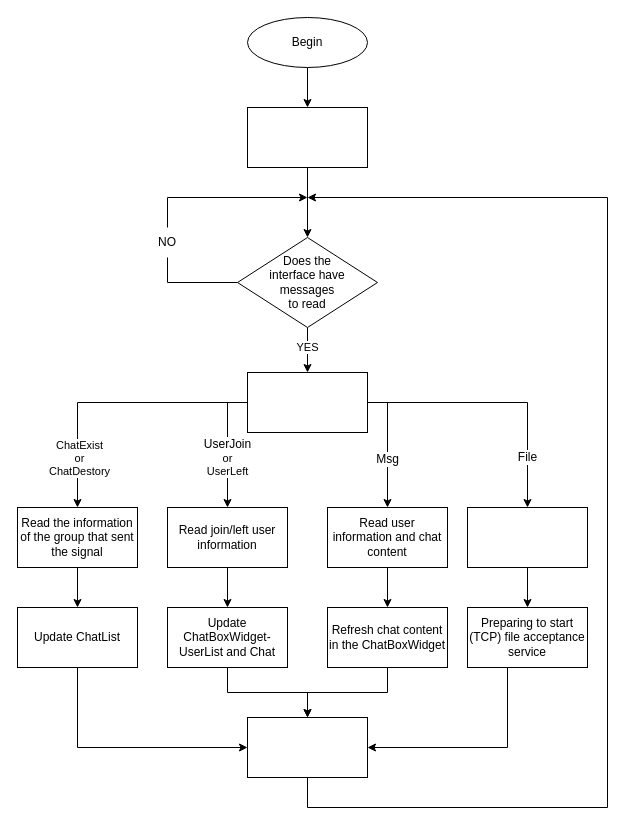
Some shapes in this 633 by 833 pixel diagram are drawn without their labels. Here are the shapes that lost their labels. From the top down, the centre of each, then its label:
At pixel 307 137: "Define the UDP Scoket and bind the IP interface specified by the client".
At pixel 307 402: "Read the data and determine the message type".
At pixel 527 537: "Adding information about the file to the chat box".
At pixel 307 747: "Current message processing is complete".
